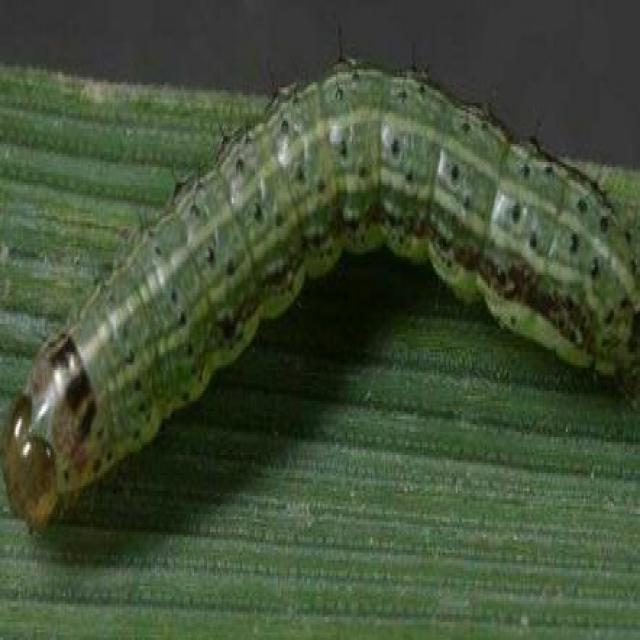BeetArmyWorm-Larva-: (5, 56, 634, 540)
